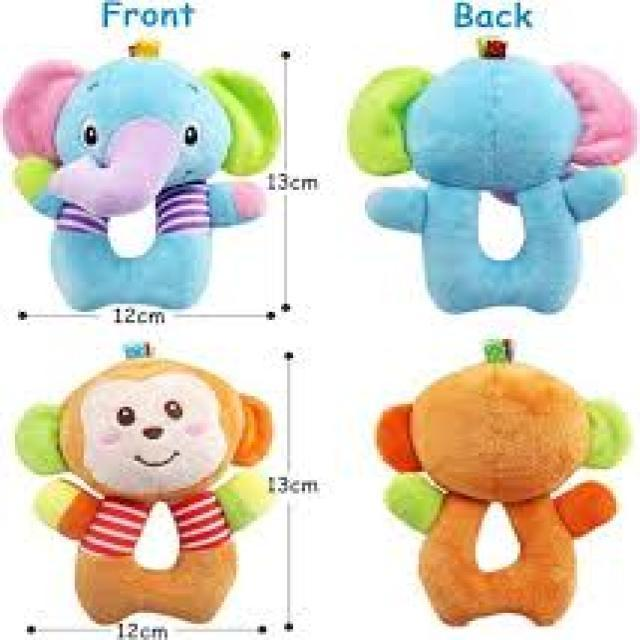soft-toy: (349, 60, 636, 314), (377, 342, 630, 626), (5, 60, 280, 310), (17, 361, 274, 625)
